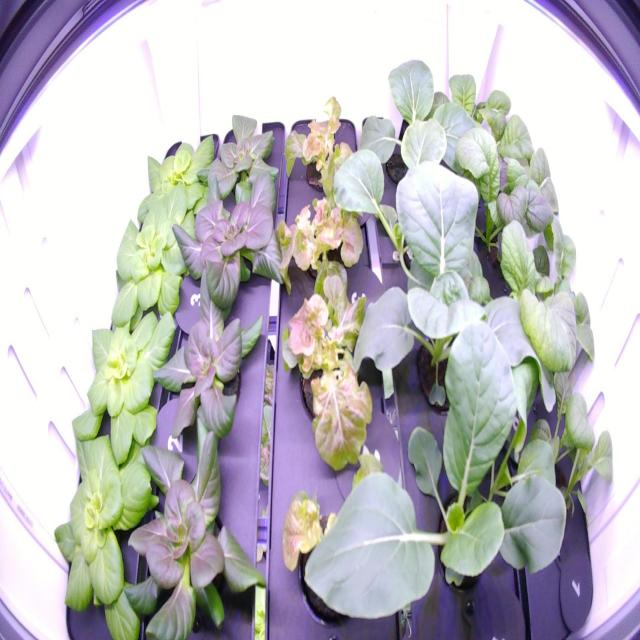young: (120, 408, 275, 638), (46, 400, 172, 638), (146, 251, 276, 448), (66, 290, 184, 472), (169, 158, 298, 318), (98, 183, 214, 329), (192, 96, 286, 216), (132, 120, 222, 242)
